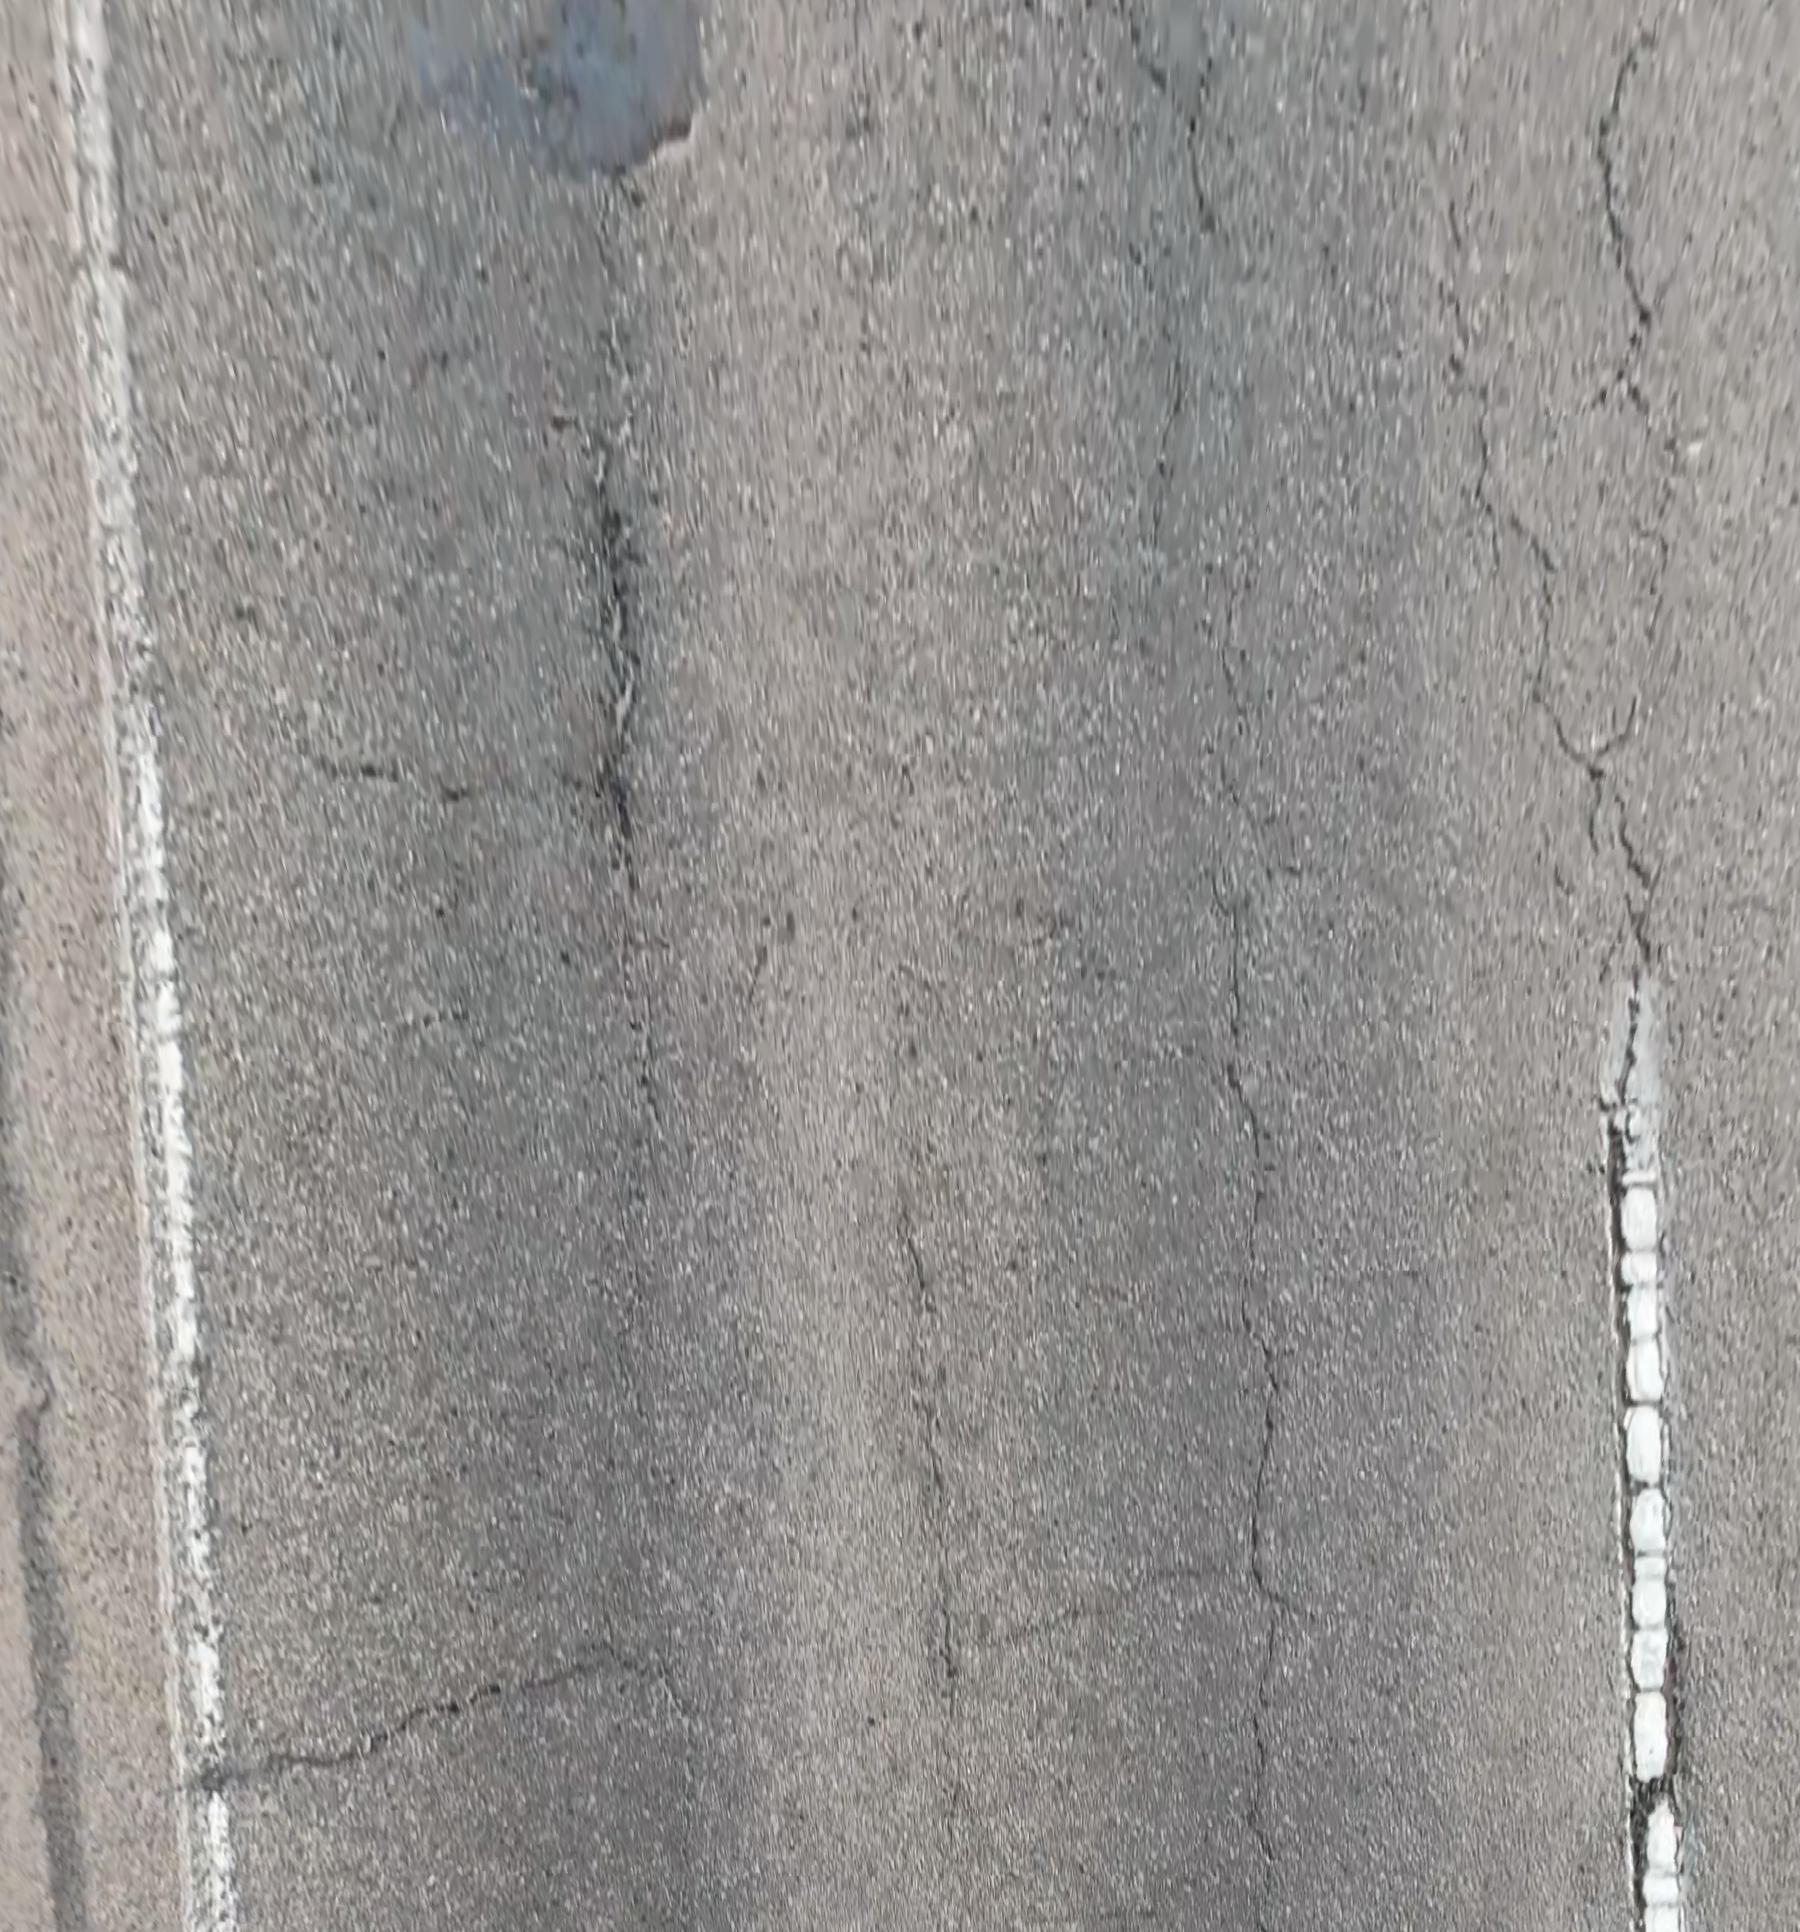pothole_patch_good: (408, 0, 700, 173)
